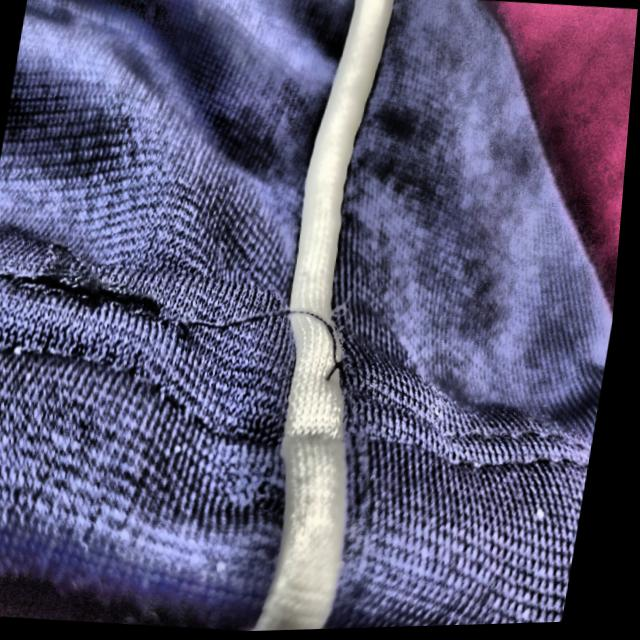Stitch: (159, 253, 421, 437)
